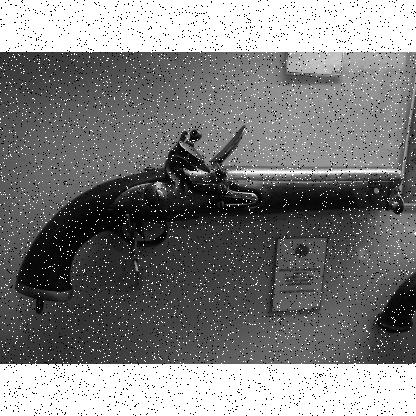gun: (14, 125, 404, 313)
